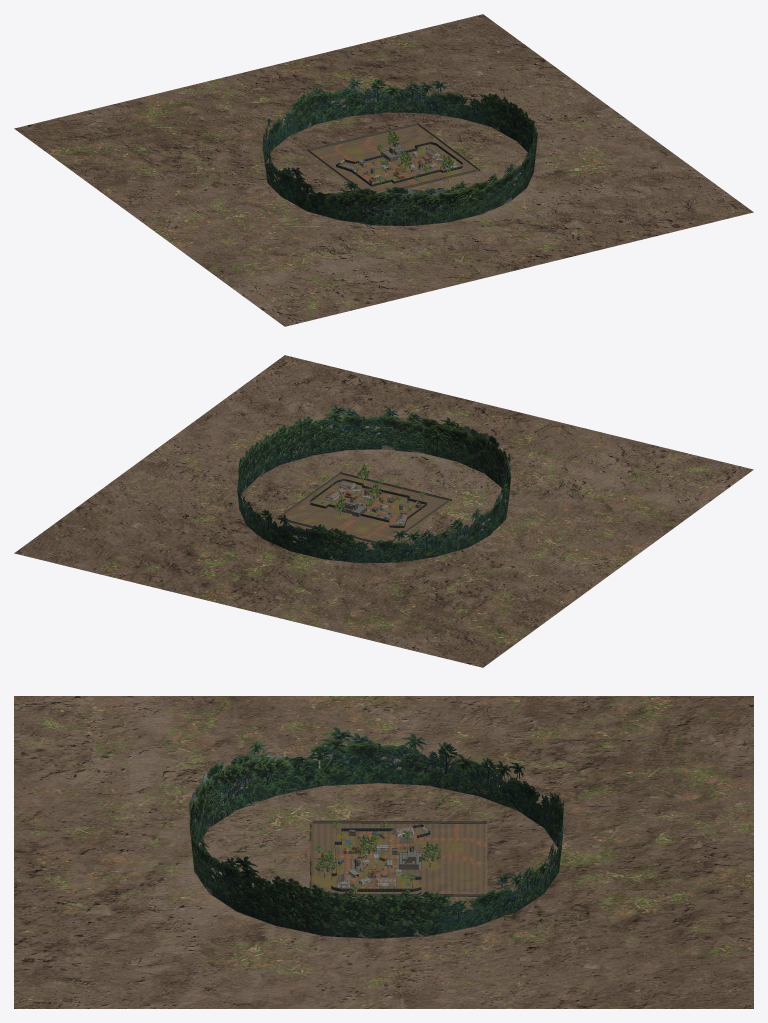
The model's file is Environment 2_1.fbx.
3 views of the same model, one above another, from view 1: azimuth 30°, elevation 25°; view 2: azimuth 150°, elevation 25°; view 3: azimuth 270°, elevation 25° (orthographic). The views are drawn at different scales.
Visible parts, largest first — view 1: Plane_ground3_desaturate_1_0, Outer_wall_trees_round_0, MP_terrain_MP_terrain_Basemap_Diffuse_x1_y0_0, MP_terrain_MP_terrain_Basemap_Diffuse_x1_y1_0, MP_terrain_MP_terrain_Basemap_Diffuse_x0_y0_0, MP_terrain_MP_terrain_Basemap_Diffuse_x0_y1_0, out_fence_side_fence_0, Trees_trees_Leaves_atlases_0, Fence_Fence_2_0; view 2: Plane_ground3_desaturate_1_0, Outer_wall_trees_round_0, MP_terrain_MP_terrain_Basemap_Diffuse_x0_y0_0, MP_terrain_MP_terrain_Basemap_Diffuse_x1_y0_0, MP_terrain_MP_terrain_Basemap_Diffuse_x1_y1_0, MP_terrain_MP_terrain_Basemap_Diffuse_x0_y1_0, out_fence_side_fence_0, Fence_Fence_2_0, Trees_trees_Leaves_atlases_0; view 3: Plane_ground3_desaturate_1_0, Outer_wall_trees_round_0, MP_terrain_MP_terrain_Basemap_Diffuse_x0_y0_0, MP_terrain_MP_terrain_Basemap_Diffuse_x1_y0_0, MP_terrain_MP_terrain_Basemap_Diffuse_x1_y1_0, MP_terrain_MP_terrain_Basemap_Diffuse_x0_y1_0, Trees_trees_Leaves_atlases_0, out_fence_side_fence_0, Fence_Fence_2_0, main_building_main_building_atlas_0.
Boxes of the visible parts, left/top/right/bottom form: Plane_ground3_desaturate_1_0: left=14, top=14, right=753, bottom=326; Outer_wall_trees_round_0: left=262, top=78, right=537, bottom=225; MP_terrain_MP_terrain_Basemap_Diffuse_x1_y0_0: left=305, top=138, right=388, bottom=174; MP_terrain_MP_terrain_Basemap_Diffuse_x1_y1_0: left=338, top=161, right=425, bottom=193; MP_terrain_MP_terrain_Basemap_Diffuse_x0_y0_0: left=363, top=125, right=447, bottom=156; MP_terrain_MP_terrain_Basemap_Diffuse_x0_y1_0: left=394, top=148, right=482, bottom=186; out_fence_side_fence_0: left=307, top=123, right=480, bottom=193; Trees_trees_Leaves_atlases_0: left=340, top=130, right=466, bottom=182; Fence_Fence_2_0: left=336, top=141, right=462, bottom=186; Plane_ground3_desaturate_1_0: left=14, top=355, right=753, bottom=667; Outer_wall_trees_round_0: left=237, top=404, right=511, bottom=563; MP_terrain_MP_terrain_Basemap_Diffuse_x0_y0_0: left=275, top=496, right=354, bottom=529; MP_terrain_MP_terrain_Basemap_Diffuse_x1_y0_0: left=338, top=511, right=419, bottom=544; MP_terrain_MP_terrain_Basemap_Diffuse_x1_y1_0: left=367, top=487, right=450, bottom=523; MP_terrain_MP_terrain_Basemap_Diffuse_x0_y1_0: left=309, top=474, right=393, bottom=506; out_fence_side_fence_0: left=277, top=471, right=451, bottom=542; Fence_Fence_2_0: left=310, top=479, right=427, bottom=528; Trees_trees_Leaves_atlases_0: left=313, top=464, right=425, bottom=525; Plane_ground3_desaturate_1_0: left=14, top=696, right=753, bottom=1008; Outer_wall_trees_round_0: left=189, top=727, right=564, bottom=938; MP_terrain_MP_terrain_Basemap_Diffuse_x0_y0_0: left=398, top=859, right=487, bottom=898; MP_terrain_MP_terrain_Basemap_Diffuse_x1_y0_0: left=398, top=823, right=487, bottom=860; MP_terrain_MP_terrain_Basemap_Diffuse_x1_y1_0: left=309, top=822, right=398, bottom=861; MP_terrain_MP_terrain_Basemap_Diffuse_x0_y1_0: left=309, top=860, right=398, bottom=898; Trees_trees_Leaves_atlases_0: left=315, top=820, right=441, bottom=892; out_fence_side_fence_0: left=312, top=820, right=486, bottom=896; Fence_Fence_2_0: left=331, top=824, right=430, bottom=891; main_building_main_building_atlas_0: left=372, top=831, right=422, bottom=870.
Bounding box in the file's own units: 81564 × 10624 × 81564.
Materials: 14 (14 with a texture image).
